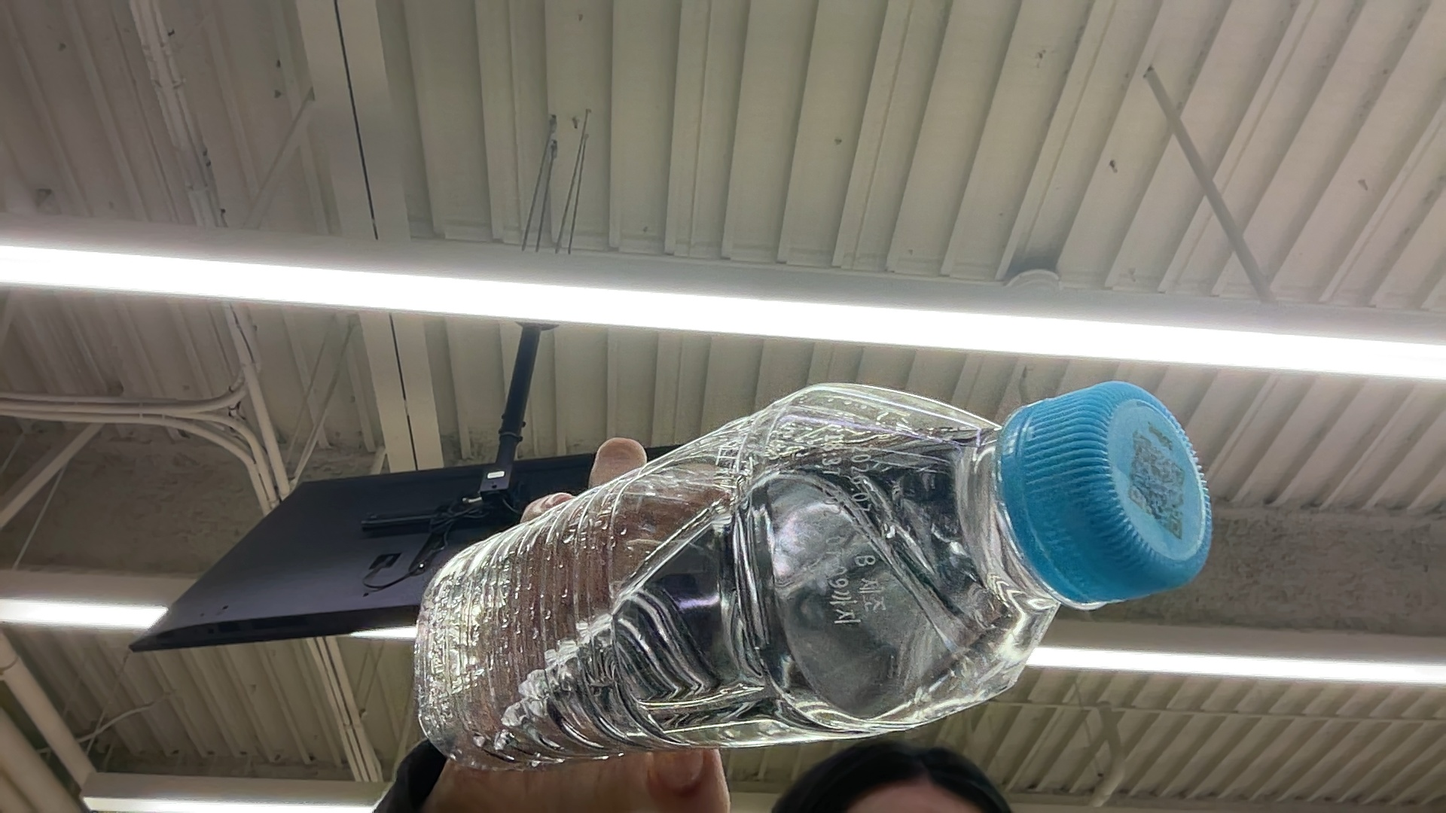Plastic: (992, 379, 1212, 610)
